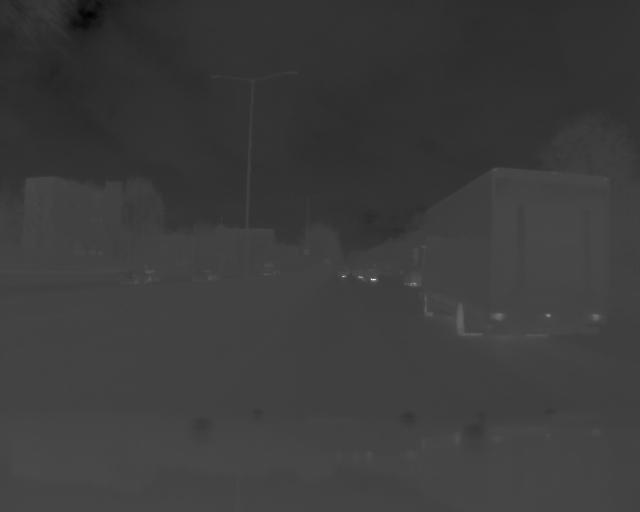person: (412, 166, 612, 342)
